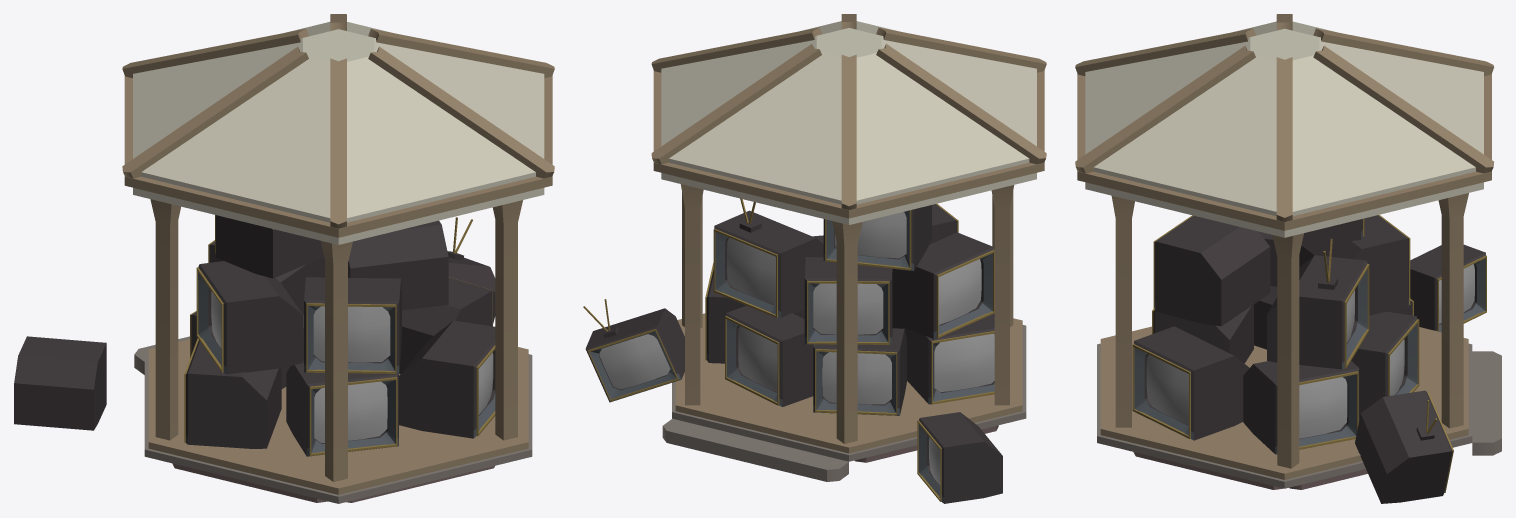
The model's file is gazebo_full.fbx.
The picture shows the model from 3 angles, left to right: view 1: azimuth 30°, elevation 25°; view 2: azimuth 150°, elevation 25°; view 3: azimuth 270°, elevation 25°; orthographic projection. The views are drawn at different scales.
Visible parts, largest first — view 1: gazebo, tv_gazebo, tv_gazeboS, tv_gazeboL; view 2: gazebo, tv_gazebo, tv_gazeboL, tv_gazeboS; view 3: gazebo, tv_gazebo, tv_gazeboL, tv_gazeboS.
Part boxes in pixels (x1=…): gazebo: x1=122, y1=14, x2=554, y2=503; tv_gazebo: x1=184, y1=215, x2=495, y2=456; tv_gazeboS: x1=14, y1=336, x2=106, y2=430; tv_gazeboL: x1=447, y1=217, x2=495, y2=323; gazebo: x1=651, y1=14, x2=1046, y2=481; tv_gazebo: x1=705, y1=198, x2=994, y2=415; tv_gazeboL: x1=583, y1=299, x2=684, y2=402; tv_gazeboS: x1=917, y1=412, x2=1002, y2=503; gazebo: x1=1075, y1=14, x2=1501, y2=489; tv_gazebo: x1=1132, y1=214, x2=1419, y2=454; tv_gazeboL: x1=1355, y1=390, x2=1453, y2=503; tv_gazeboS: x1=1410, y1=244, x2=1486, y2=332.
Bounding box in the file's own units: 614 × 486 × 507.
